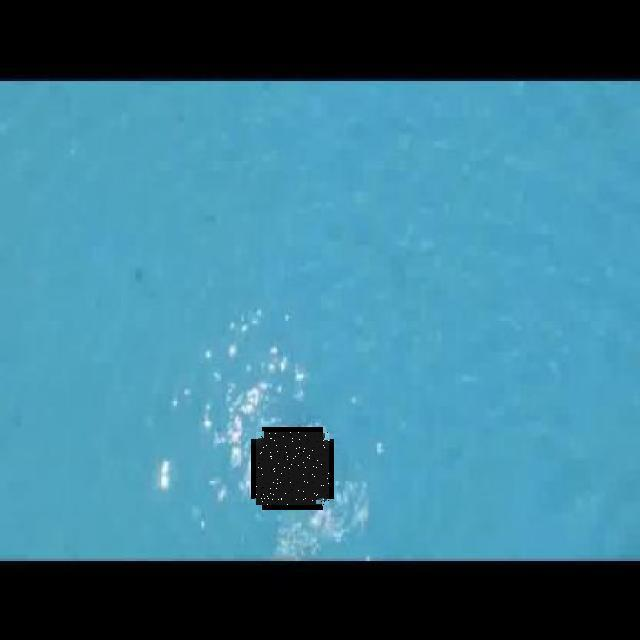swimming: (256, 432, 329, 505)
